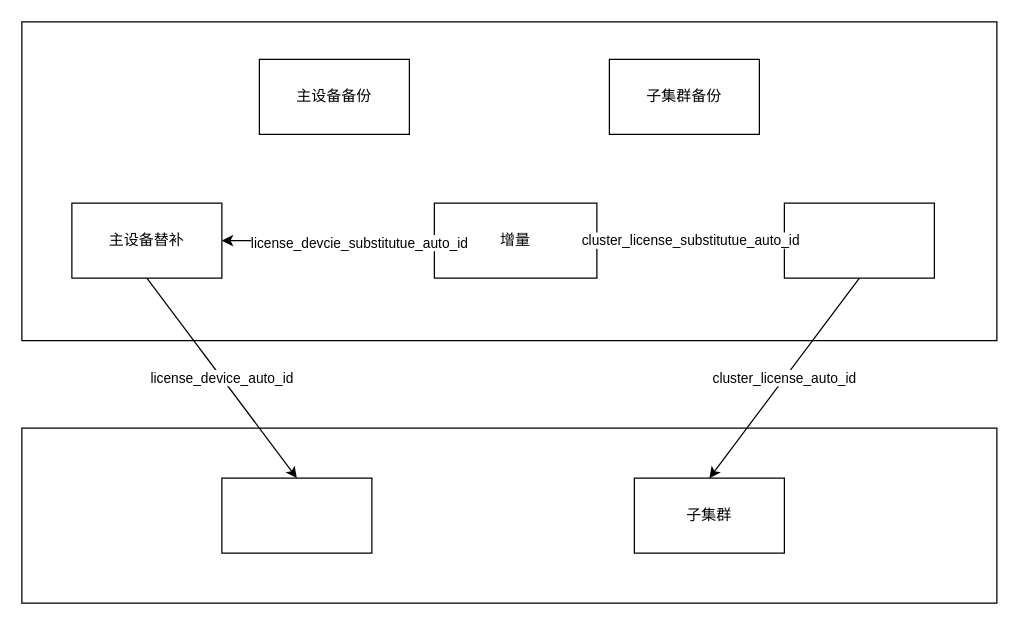
The diagram is 1019 pixels wide and 625 high, and some of its shapes have lost their labels. Each missing label, with the centre of its shape:
"主设备" belongs at point 296,515.
"子集群替补" belongs at point 858,240.
